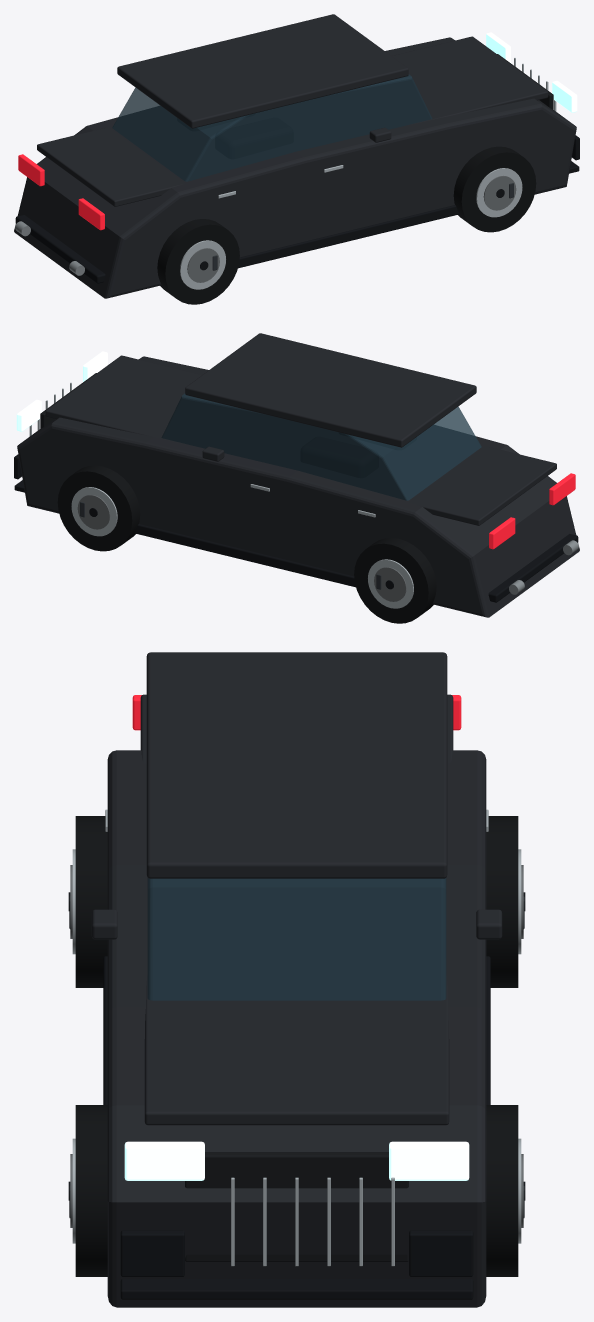
Rendered from rr_cullinan_series_ii.glb.
The picture shows the model from 3 angles, top to bottom: view 1: azimuth 30°, elevation 25°; view 2: azimuth 150°, elevation 25°; view 3: azimuth 270°, elevation 25°; orthographic projection. The views are drawn at different scales.
Parts seen in each view (by area): view 1: sculpted_body, roof, glasshouse, hood_center, rear_deck, rear_right_wheel_tire, front_right_wheel_tire, side_skirt_1, seat_1, rear_diffuser, rear_right_wheel_rim, front_right_wheel_rim (+6 smaller); view 2: sculpted_body, roof, glasshouse, hood_center, rear_deck, rear_left_wheel_tire, front_left_wheel_tire, side_skirt_-1, seat_-1, rear_diffuser, rear_left_wheel_rim, front_left_wheel_rim (+6 smaller); view 3: sculpted_body, roof, hood_center, glasshouse, front_grille, front_splitter, front_left_wheel_tire, front_right_wheel_tire, rear_left_wheel_tire, rear_right_wheel_tire, headlight_right, headlight_left (+5 smaller).
Boxes of the visible parts, x1,y1,x2,y2 form: sculpted_body: [14, 37, 576, 298]; roof: [117, 14, 408, 128]; glasshouse: [112, 74, 432, 181]; hood_center: [357, 36, 548, 125]; rear_deck: [37, 127, 184, 206]; rear_right_wheel_tire: [157, 219, 239, 304]; front_right_wheel_tire: [453, 146, 536, 232]; side_skirt_1: [238, 205, 459, 268]; seat_1: [215, 118, 292, 158]; rear_diffuser: [15, 215, 105, 283]; rear_right_wheel_rim: [180, 240, 225, 289]; front_right_wheel_rim: [476, 168, 522, 217]; sculpted_body: [17, 356, 579, 617]; roof: [185, 333, 476, 447]; glasshouse: [161, 393, 481, 500]; hood_center: [45, 355, 236, 444]; rear_deck: [409, 446, 556, 525]; rear_left_wheel_tire: [354, 538, 436, 623]; front_left_wheel_tire: [57, 465, 140, 551]; side_skirt_-1: [134, 524, 355, 587]; seat_-1: [301, 437, 378, 477]; rear_diffuser: [488, 534, 578, 602]; rear_left_wheel_rim: [368, 559, 413, 608]; front_left_wheel_rim: [71, 487, 117, 536]; sculpted_body: [107, 750, 486, 1307]; roof: [146, 652, 447, 878]; hood_center: [144, 974, 449, 1125]; glasshouse: [147, 878, 446, 1000]; front_grille: [185, 1152, 408, 1261]; front_splitter: [120, 1279, 473, 1299]; front_left_wheel_tire: [486, 1105, 518, 1276]; front_right_wheel_tire: [75, 1105, 107, 1276]; rear_left_wheel_tire: [486, 816, 518, 987]; rear_right_wheel_tire: [75, 816, 107, 987]; headlight_right: [124, 1141, 204, 1180]; headlight_left: [389, 1141, 469, 1180].
Size of the model in its own units: 5.7 by 1.85 by 2.28.
